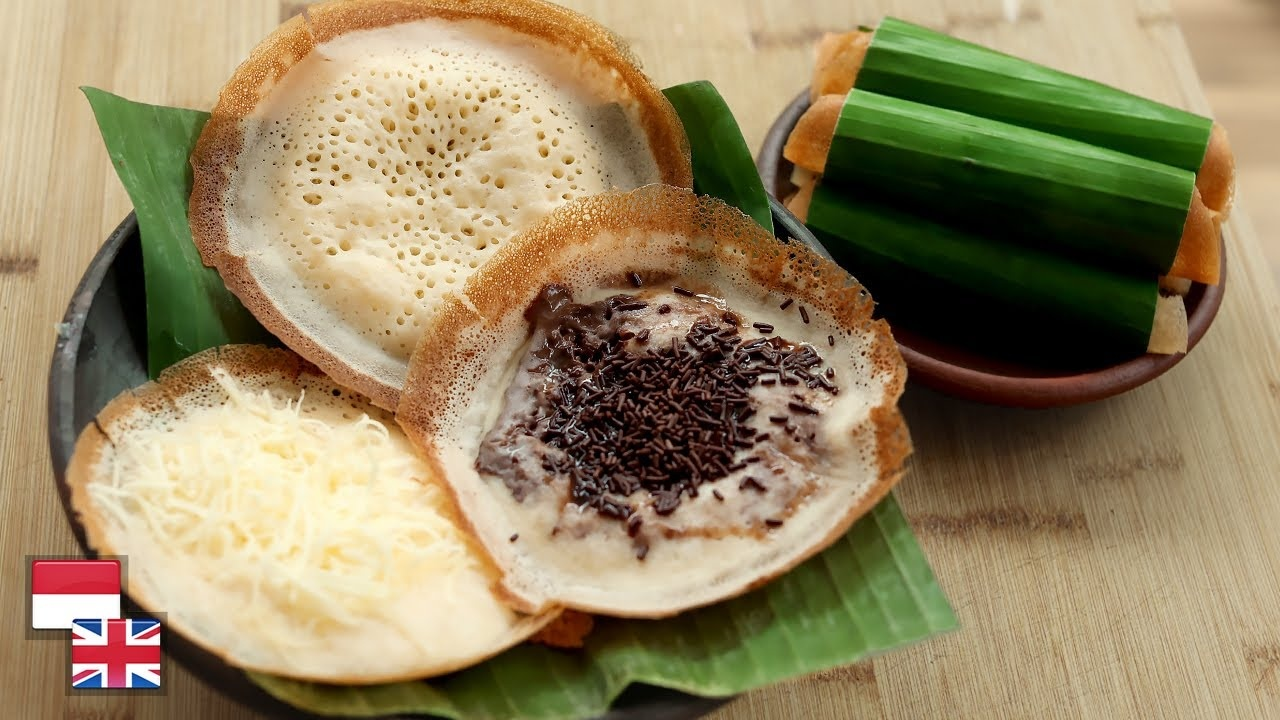srabi: (385, 168, 878, 601)
